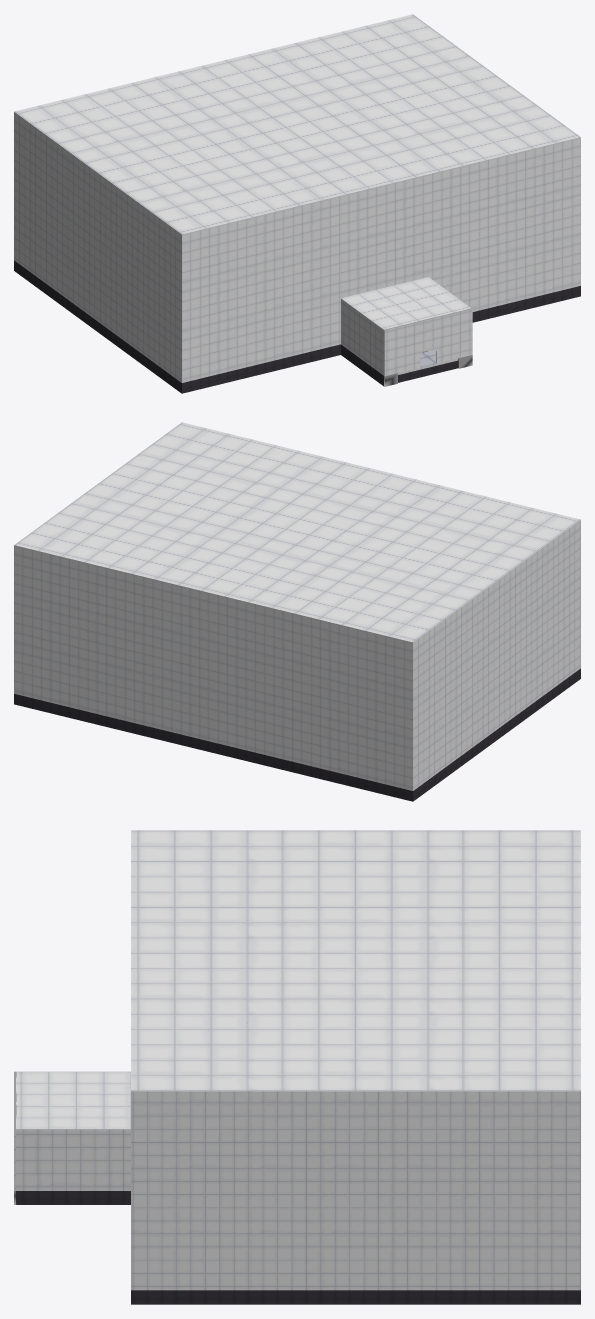
File: Level1_A2_Textured.fbx
3 renders of one model, top to bottom at view 1: azimuth 30°, elevation 25°; view 2: azimuth 150°, elevation 25°; view 3: azimuth 270°, elevation 25°, orthographic. The views are drawn at different scales.
Visible parts, largest first — view 1: pPlane11, pPlane9, pPlane5, EntryDoor, pPlane10, pPlane2, polySurface3; view 2: pPlane11, pPlane6, pPlane5; view 3: pPlane11, pPlane7, pPlane3, pPlane10.
Part boxes in pixels (x1,y1,x2,y2): pPlane11: [14, 14, 580, 234]; pPlane9: [182, 137, 580, 393]; pPlane5: [14, 112, 181, 393]; EntryDoor: [383, 308, 472, 386]; pPlane10: [341, 277, 471, 329]; pPlane2: [341, 298, 383, 386]; polySurface3: [398, 349, 458, 382]; pPlane11: [14, 422, 580, 642]; pPlane6: [14, 545, 412, 801]; pPlane5: [413, 520, 580, 801]; pPlane11: [131, 830, 580, 1091]; pPlane7: [131, 1091, 580, 1304]; pPlane3: [16, 1129, 130, 1204]; pPlane10: [16, 1071, 130, 1129].
Size of the model in its own units: 118 by 59 by 108.
Materials: 10 (7 with a texture image).
